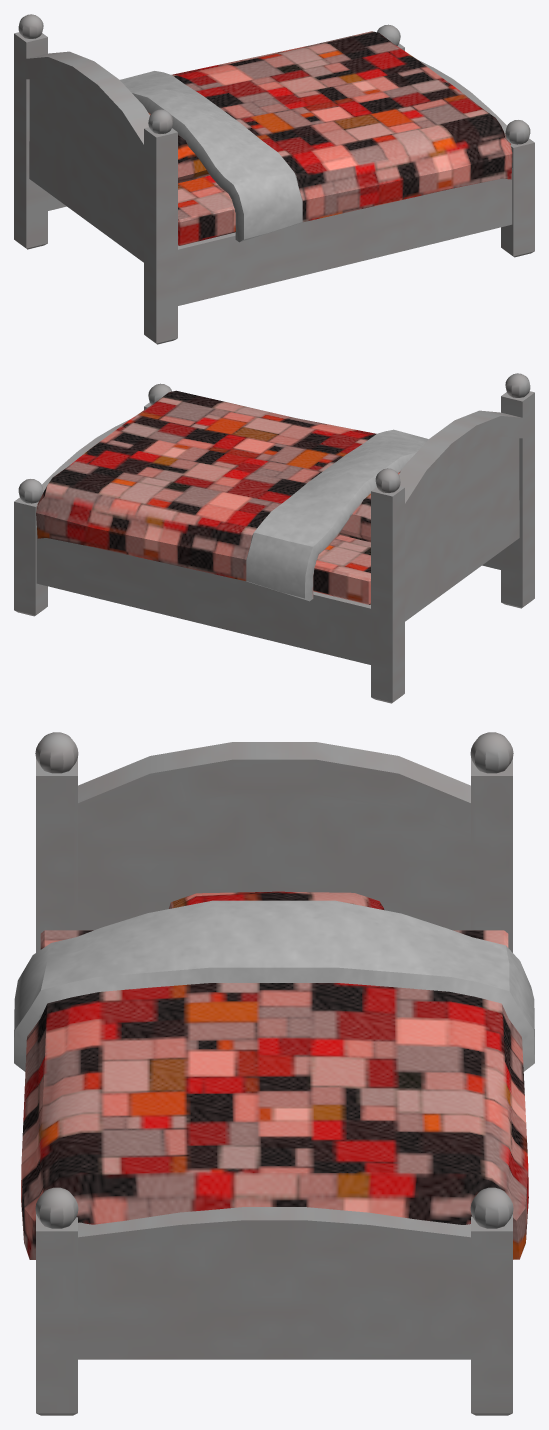
File: Bed.fbx
3 views of the same model, one above another, from view 1: azimuth 30°, elevation 25°; view 2: azimuth 150°, elevation 25°; view 3: azimuth 270°, elevation 25° (orthographic). The views are drawn at different scales.
Visible parts, largest first — view 1: Bed; view 2: Bed; view 3: Bed.
Part boxes in pixels (x1=…): Bed: x1=14, y1=14, x2=534, y2=344; Bed: x1=14, y1=373, x2=534, y2=703; Bed: x1=14, y1=732, x2=534, y2=1415.
Size of the model in its own units: 230 by 132 by 163.
